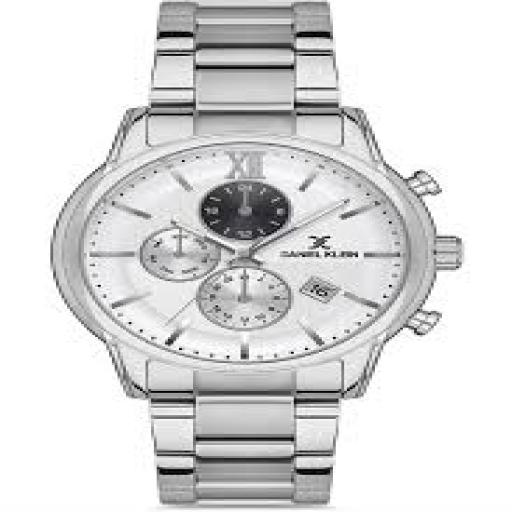KolSaati: (42, 0, 484, 512)
